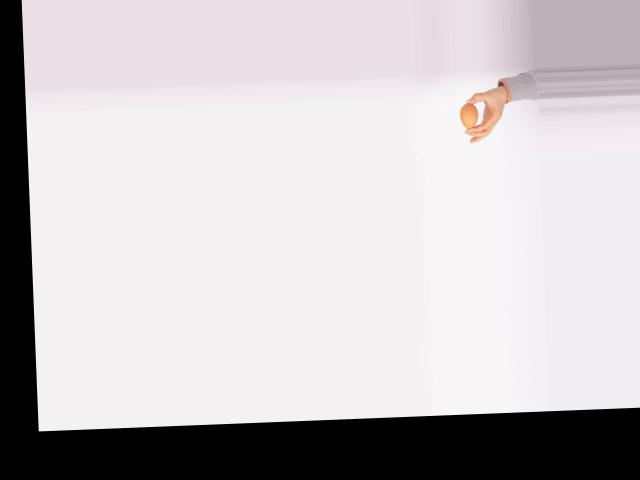egg: (459, 103, 477, 129)
